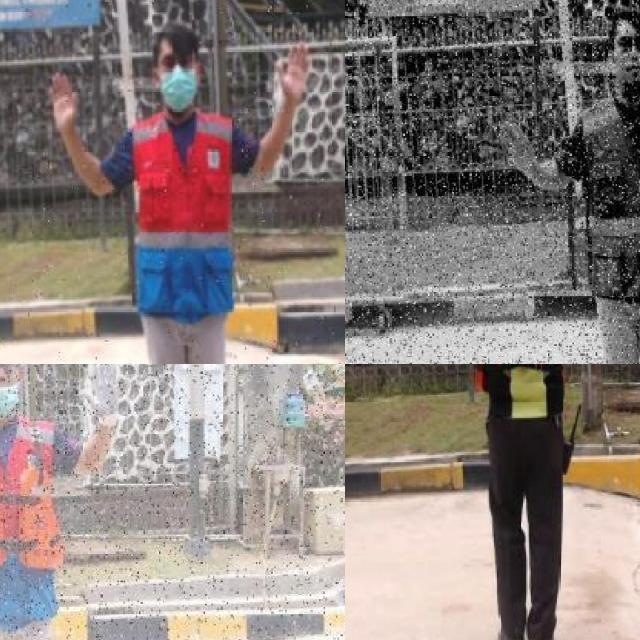apron: (81, 364, 121, 430)
